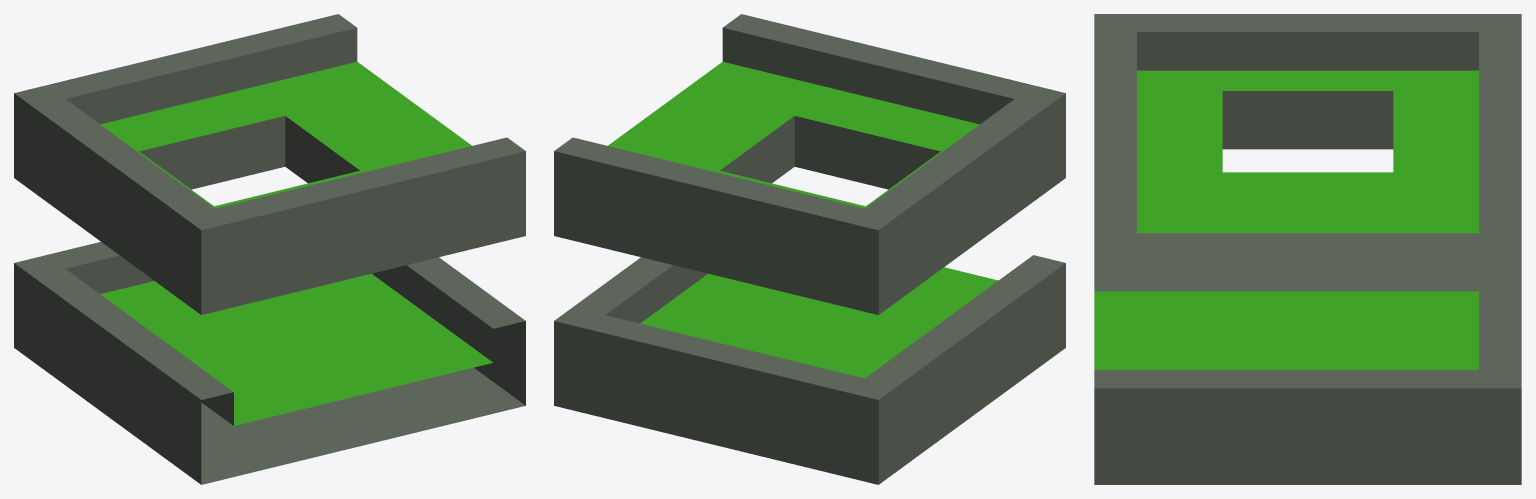
Rendered from EndDropL.fbx.
3 views of the same model, side by side, from view 1: azimuth 30°, elevation 25°; view 2: azimuth 150°, elevation 25°; view 3: azimuth 270°, elevation 25° (orthographic). The views are drawn at different scales.
Visible parts, largest first — view 1: Plane.014; view 2: Plane.014; view 3: Plane.014.
Boxes of the visible parts, x1=… form: Plane.014: x1=14, y1=14, x2=525, y2=484; Plane.014: x1=554, y1=14, x2=1065, y2=484; Plane.014: x1=1094, y1=14, x2=1521, y2=484.
Size of the model in its own units: 200 by 150 by 200.
